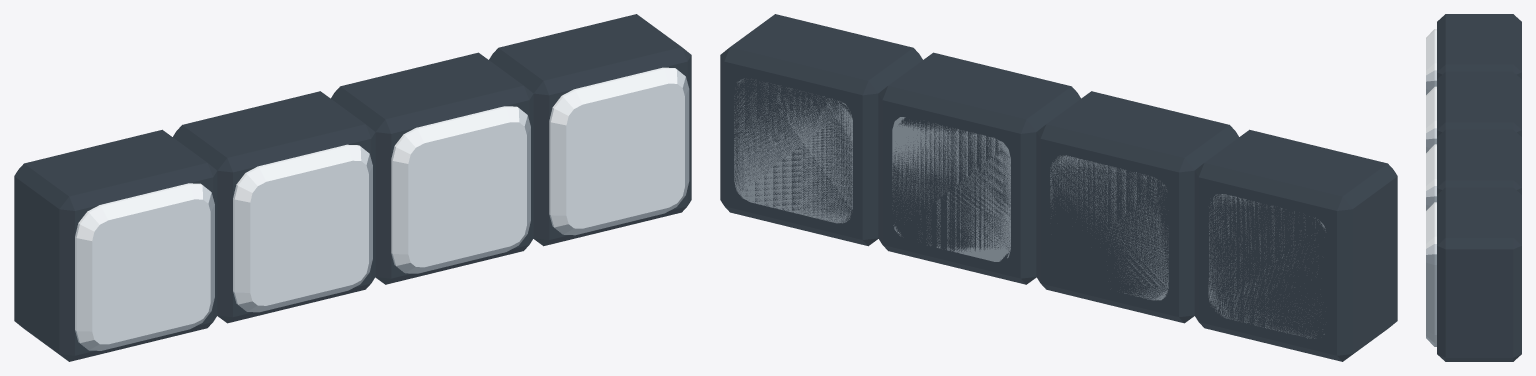
The model's file is Terrain_Block4x1.gltf.
3 renders of one model, left to right at view 1: azimuth 30°, elevation 25°; view 2: azimuth 150°, elevation 25°; view 3: azimuth 270°, elevation 25°, orthographic. The views are drawn at different scales.
Visible parts, largest first — view 1: Terrain_Block4x1_baked; view 2: Terrain_Block4x1_baked; view 3: Terrain_Block4x1_baked.
Part boxes in pixels (x1,y1,x2,y2): Terrain_Block4x1_baked: (14,14,691,361); Terrain_Block4x1_baked: (720,14,1397,361); Terrain_Block4x1_baked: (1426,14,1521,361).
Bounding box in the file's own units: 4 × 1 × 0.7.
